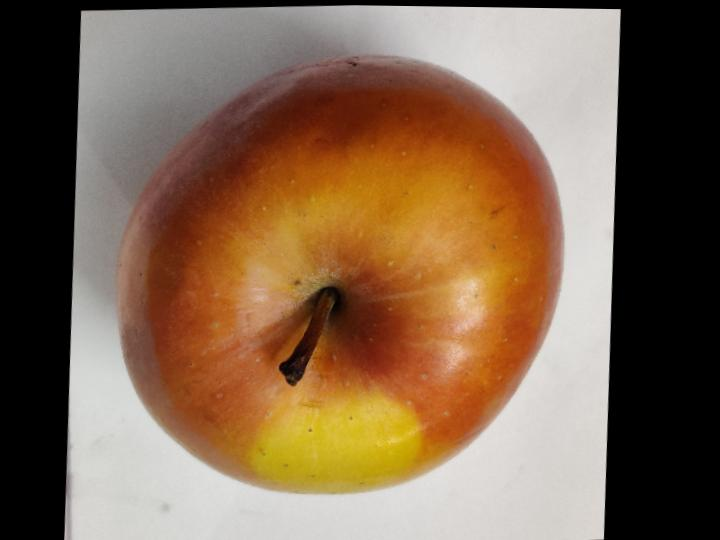apple: (117, 56, 562, 494)
